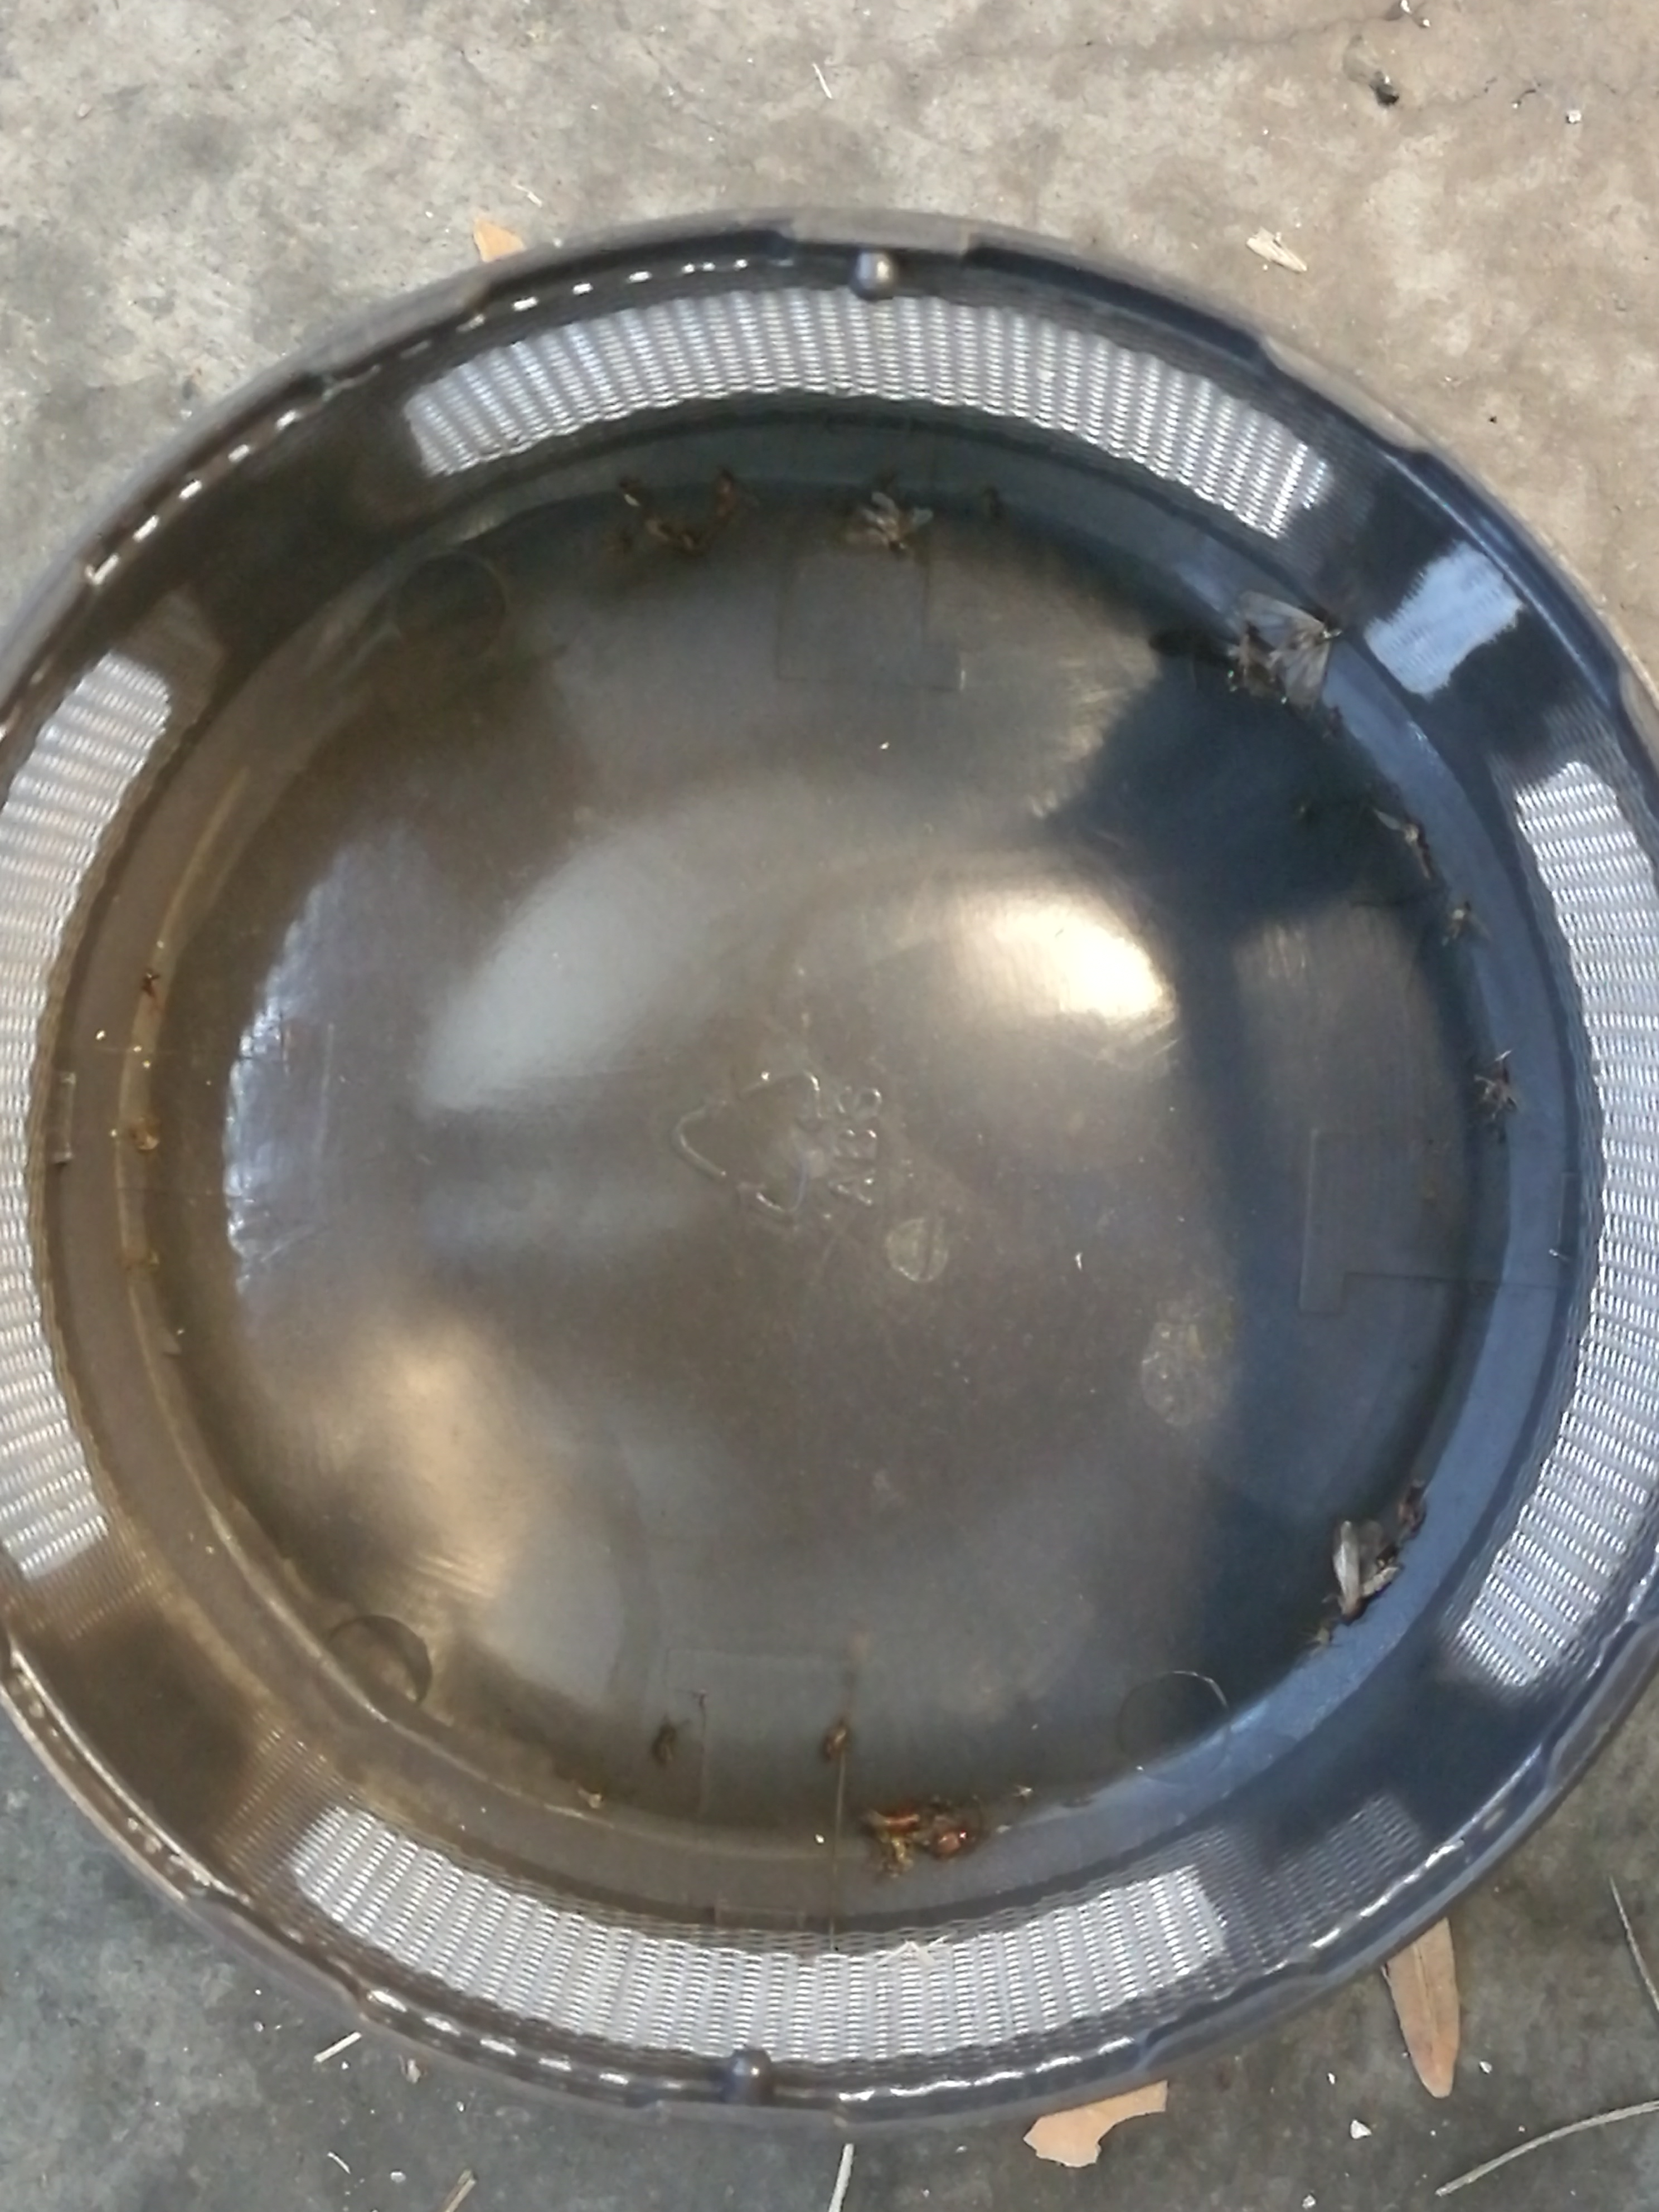moth: (1237, 590, 1330, 723), (1337, 1527, 1399, 1616), (840, 491, 936, 547)
